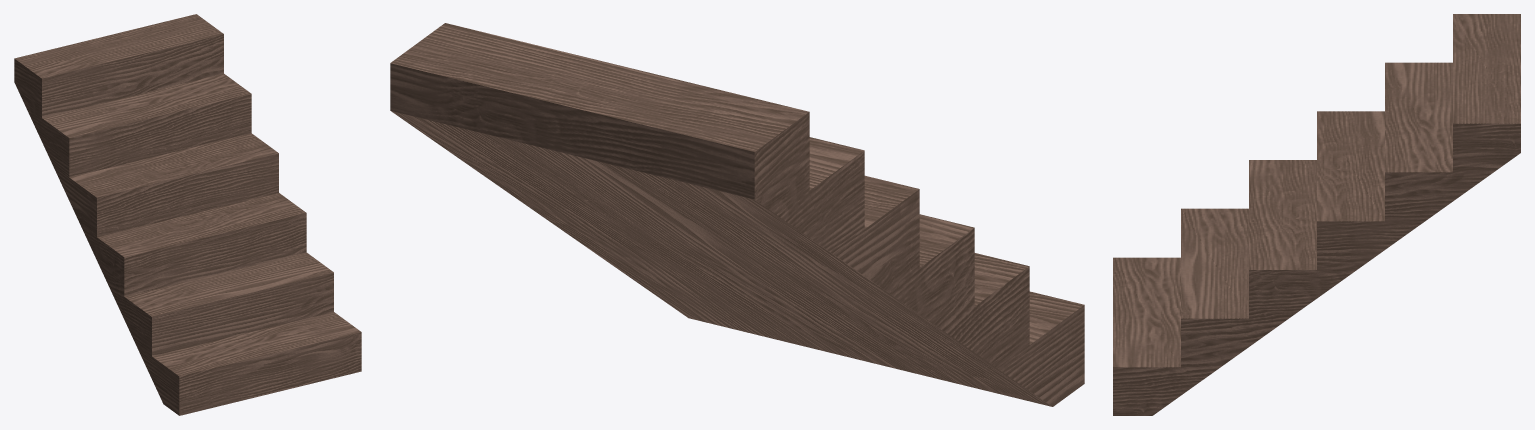
File: ladder_001.fbx
3 renders of one model, left to right at view 1: azimuth 30°, elevation 25°; view 2: azimuth 150°, elevation 25°; view 3: azimuth 270°, elevation 25°, orthographic. The views are drawn at different scales.
Parts seen in each view (by area): view 1: ladder_001; view 2: ladder_001; view 3: ladder_001.
Boxes of the visible parts, <box> form: ladder_001: <box>14,14,361,415</box>; ladder_001: <box>390,23,1084,406</box>; ladder_001: <box>1113,14,1520,415</box>.
Bounding box in the file's own units: 162 × 254 × 201.
